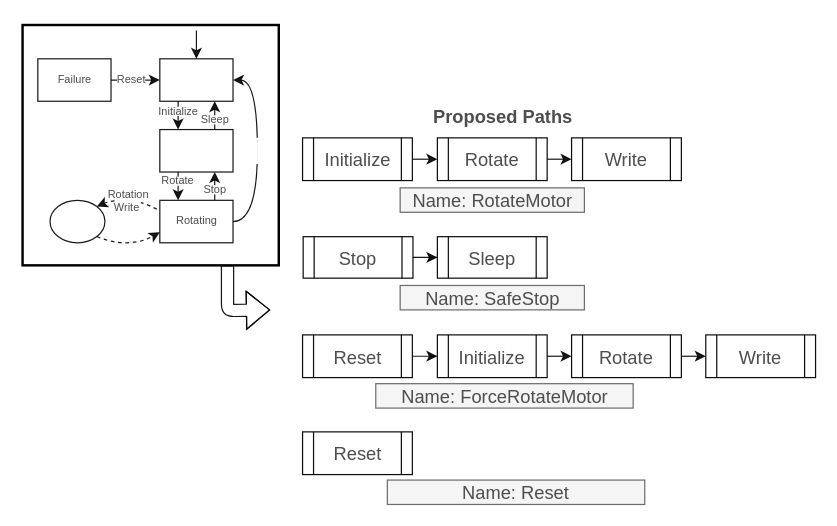
Some shapes in this 837 by 526 pixel diagram are drawn without their labels. The shapes that lost their labels are listed below. From the top down, each one's box as (x1, y1, x2, y2) in pixels, then its label:
(159, 58, 233, 101): Idle
(159, 128, 233, 172): Ready
(245, 137, 269, 163): Quick Stop
(49, 199, 105, 243): Rotation Speed
